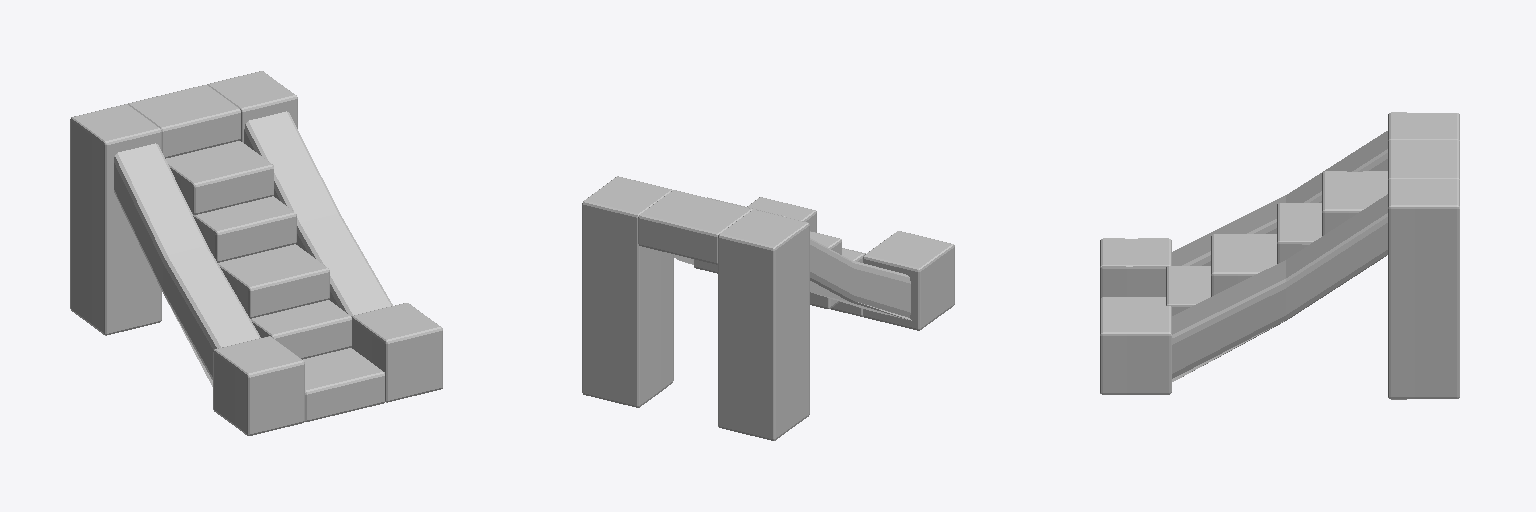
The model's file is step_stone2.obj.
3 renders of one model, left to right at view 1: azimuth 30°, elevation 25°; view 2: azimuth 150°, elevation 25°; view 3: azimuth 270°, elevation 25°, orthographic.
Parts seen in each view (by area): view 1: step_stone2; view 2: step_stone2; view 3: step_stone2.
Part boxes in pixels (x1,y1,x2,y2): step_stone2: (70, 71, 442, 435); step_stone2: (582, 176, 954, 440); step_stone2: (1100, 112, 1459, 399).
Bounding box in the file's own units: 2.39 × 2.27 × 3.82.